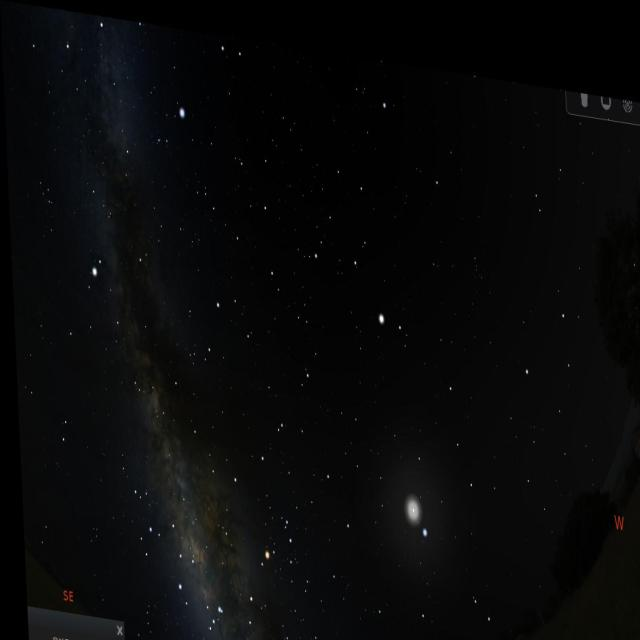aquila: (58, 187, 149, 352)
bootes: (314, 146, 416, 358)
lyra: (148, 86, 190, 148)
moon: (380, 464, 430, 536)
sagittarius: (117, 486, 196, 606)
scorpius: (194, 494, 293, 640)
